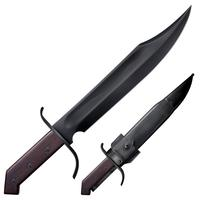knife: (3, 1, 198, 196)
